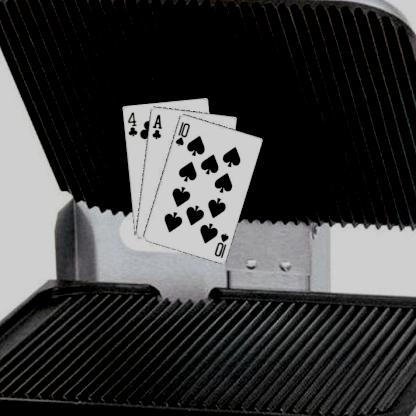10S: (211, 230, 230, 259), (173, 118, 191, 146)
4C: (124, 110, 138, 138)
AC: (150, 112, 163, 140)
